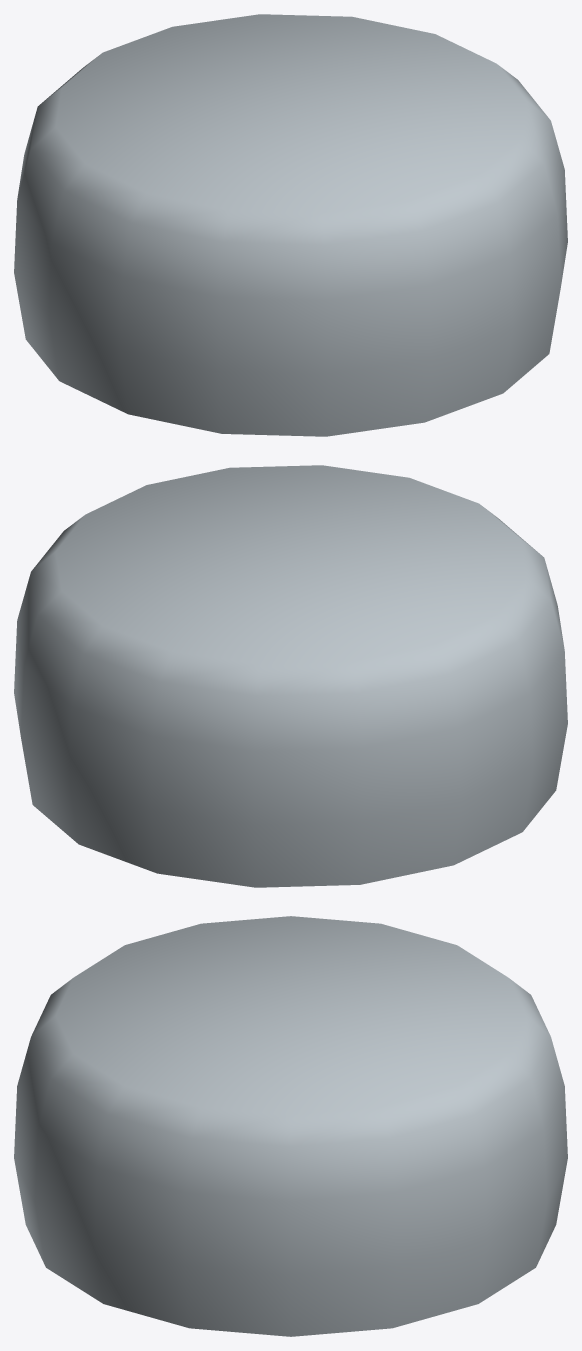
File: Tapa_05.fbx
3 views of the same model, one above another, from view 1: azimuth 30°, elevation 25°; view 2: azimuth 150°, elevation 25°; view 3: azimuth 270°, elevation 25° (orthographic).
Parts seen in each view (by area): view 1: Tapa_05; view 2: Tapa_05; view 3: Tapa_05.
Part boxes in pixels (x1,y1,x2,y2): Tapa_05: [14, 14, 567, 436]; Tapa_05: [14, 465, 567, 887]; Tapa_05: [14, 916, 567, 1336].
Size of the model in its own units: 9.59 by 4.03 by 9.59.
